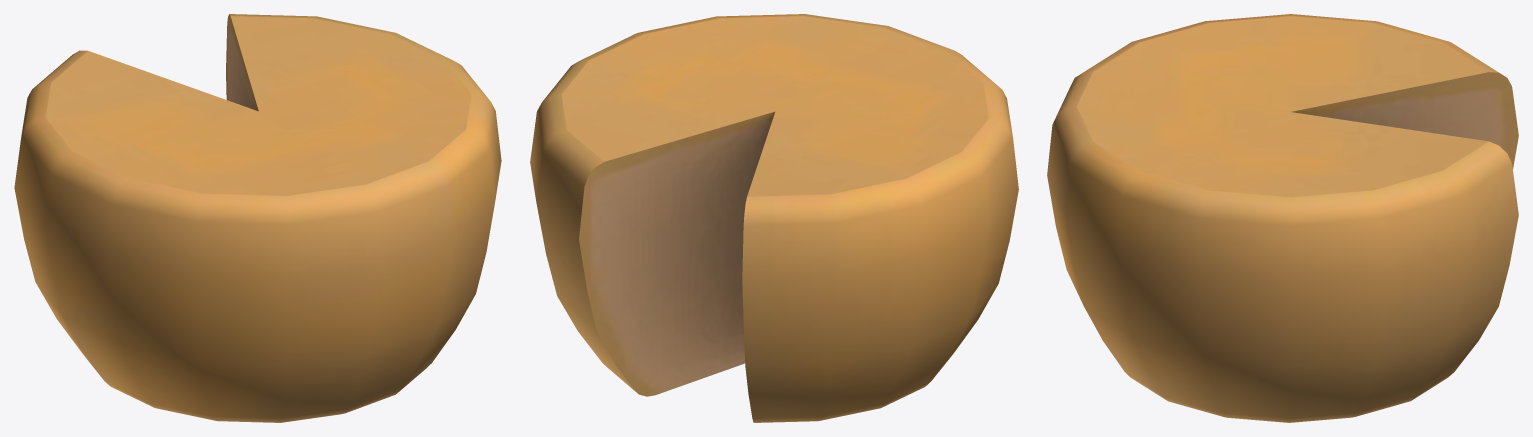
3 renders of one model, left to right at view 1: azimuth 30°, elevation 25°; view 2: azimuth 150°, elevation 25°; view 3: azimuth 270°, elevation 25°, orthographic.
Visible parts, largest first — view 1: body0_model0_lod0_mesh0; view 2: body0_model0_lod0_mesh0; view 3: body0_model0_lod0_mesh0.
Part boxes in pixels (x1,y1,x2,y2): body0_model0_lod0_mesh0: (14, 14, 501, 422); body0_model0_lod0_mesh0: (530, 14, 1018, 422); body0_model0_lod0_mesh0: (1047, 14, 1518, 422).
Size of the model in its own units: 39.08 by 21.92 by 37.59.
1 material, 1 textured.
